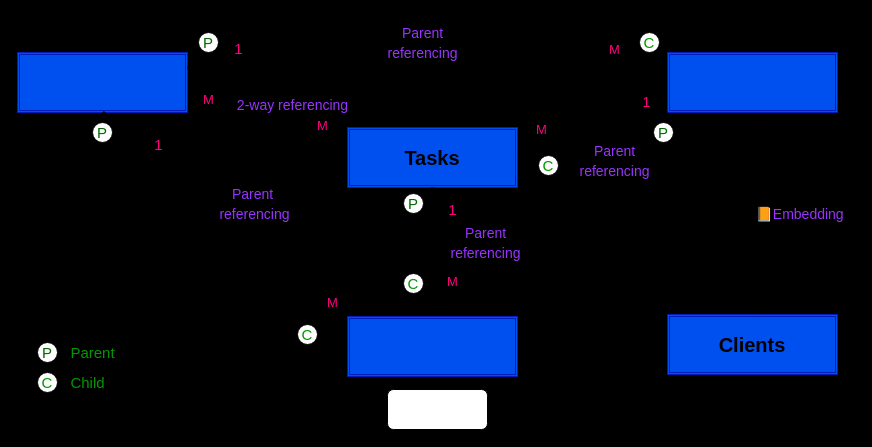
Some shapes in this 872 by 447 pixel diagram are drawn without their labels. Each missing label, with the box of its shape:
Activities: (346, 316, 518, 376)
Projects: (666, 52, 838, 112)
userID taskID: (386, 388, 488, 430)
Users: (16, 52, 188, 112)
